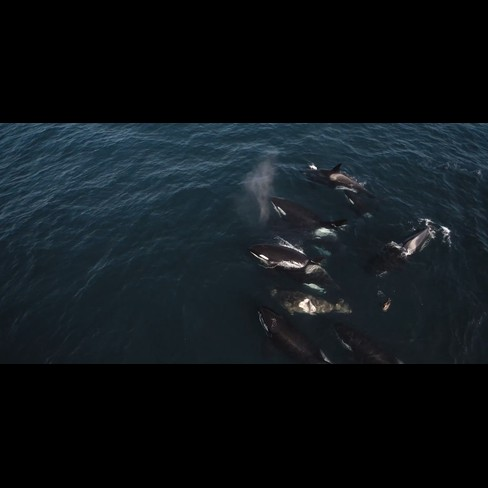orca: (363, 219, 442, 309), (255, 190, 370, 249), (245, 242, 358, 298), (251, 299, 337, 364), (287, 159, 386, 206), (247, 284, 369, 321), (325, 317, 413, 364)
